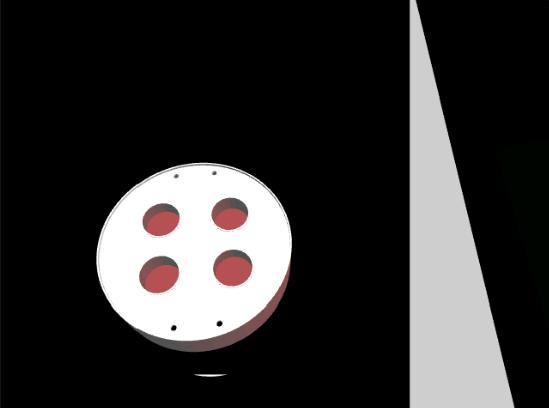hole: (135, 254, 184, 300), (208, 246, 257, 291), (136, 202, 186, 243), (206, 198, 253, 234)
